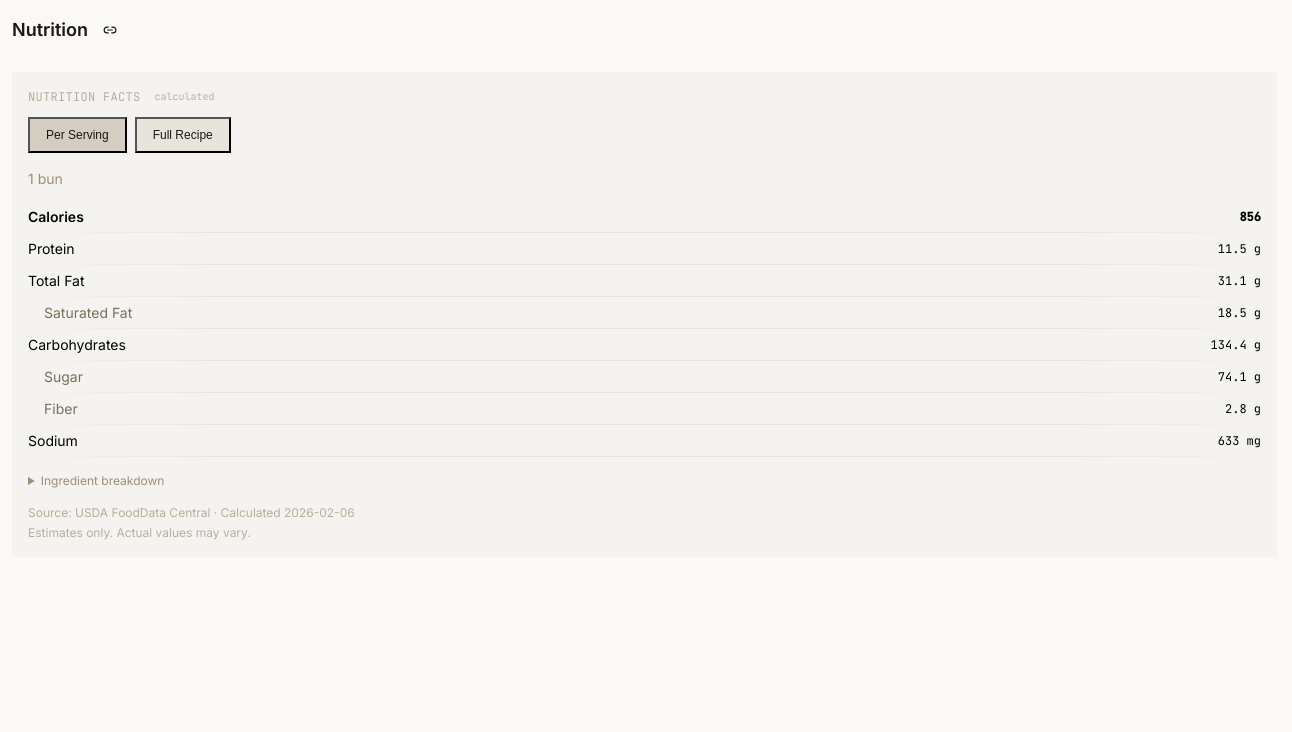
Test: NutritionSection scaling › scales full recipe totals when multiplier > 1
The width and height of the screenshot is (1292, 732).
// Switch to Full Recipe view
Click the button "Full Recipe".
click(183, 135)  # box 135,117 -> 231,153
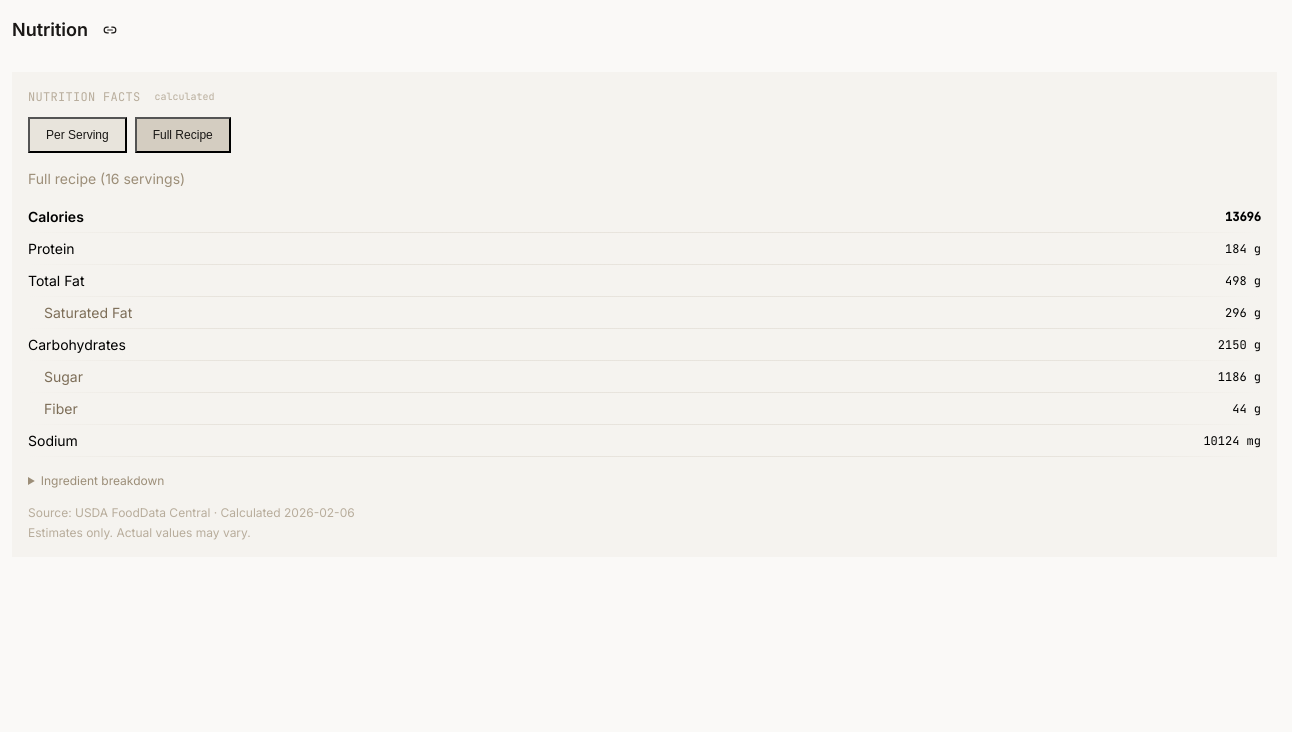
Check: the text "13696" is shown, box 822,201 -> 1261,233
Check: the text "Full recipe (16 servings)" is shown, box 28,170 -> 185,187
